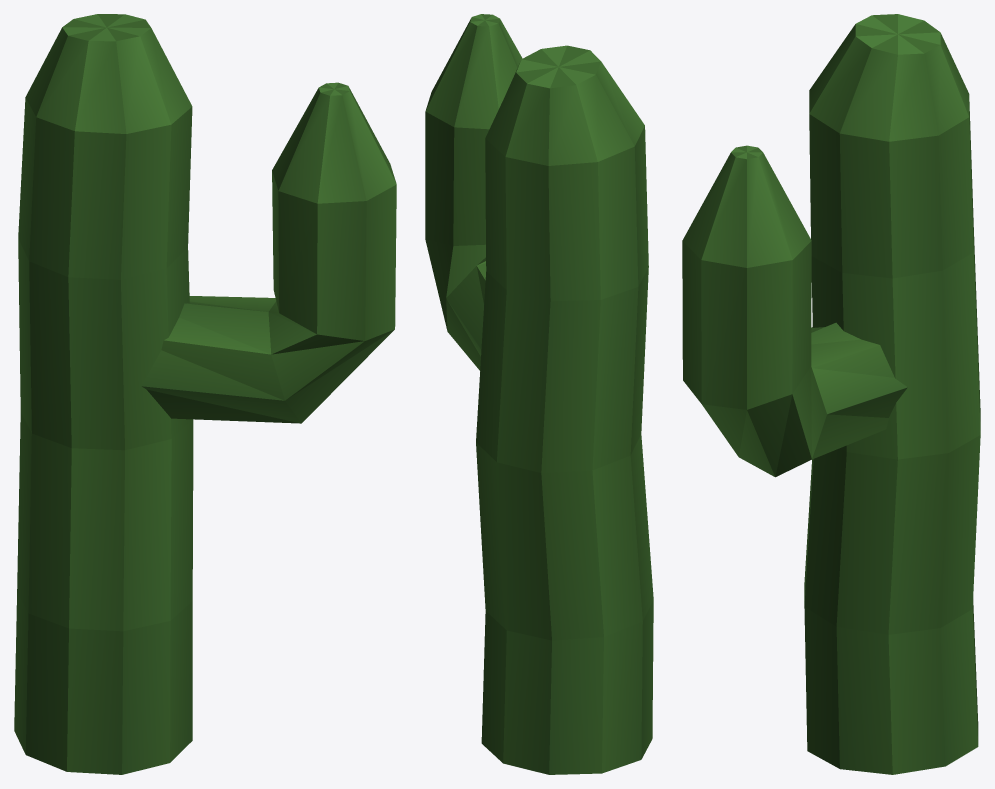
The model's file is cactus_saguaro_b.glb.
3 renders of one model, left to right at view 1: azimuth 30°, elevation 25°; view 2: azimuth 150°, elevation 25°; view 3: azimuth 270°, elevation 25°, orthographic. The views are drawn at different scales.
Visible parts, largest first — view 1: cactus_saguaro_b_solid; view 2: cactus_saguaro_b_solid; view 3: cactus_saguaro_b_solid.
Part boxes in pixels (x1,y1,x2,y2): cactus_saguaro_b_solid: (14,14,396,774); cactus_saguaro_b_solid: (425,14,653,774); cactus_saguaro_b_solid: (682,14,980,774).
Bounding box in the file's own units: 1.13 × 2.63 × 0.9957.
